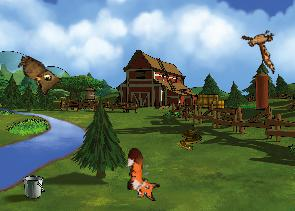eagle: (233, 19, 291, 74)
fox: (124, 148, 161, 201)
owl: (10, 53, 64, 99)
